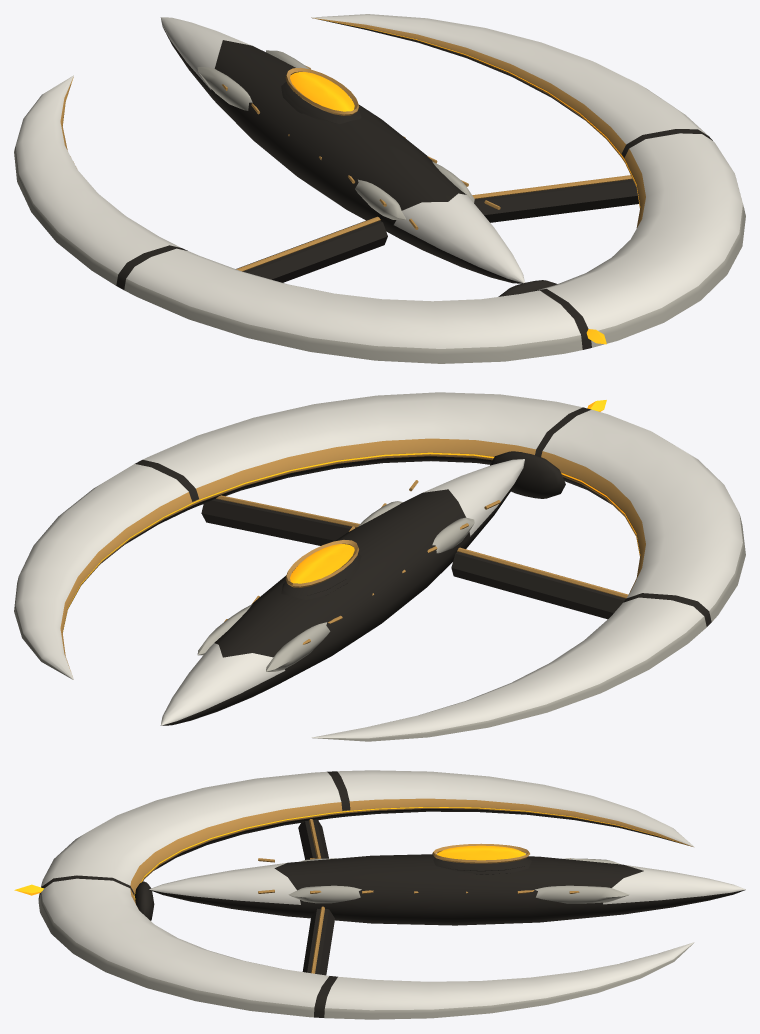
File: 02_fregatte.glb
The picture shows the model from 3 angles, top to bottom: view 1: azimuth 30°, elevation 25°; view 2: azimuth 150°, elevation 25°; view 3: azimuth 270°, elevation 25°; orthographic projection. The views are drawn at different scales.
Visible parts, largest first — view 1: Hull, energy_1; view 2: Hull, energy_1, energy_2; view 3: Hull, energy_1, energy_2.
Part boxes in pixels (left/top/right/bottom): Hull: left=14, top=14, right=745, bottom=363; energy_1: left=283, top=67, right=361, bottom=123; Hull: left=14, top=392, right=745, bottom=741; energy_1: left=283, top=540, right=361, bottom=595; energy_2: left=490, top=451, right=565, bottom=498; Hull: left=38, top=770, right=745, bottom=1019; energy_1: left=432, top=843, right=532, bottom=871; energy_2: left=134, top=881, right=154, bottom=920.
Size of the model in its own units: 6.76 by 0.9833 by 8.75.
